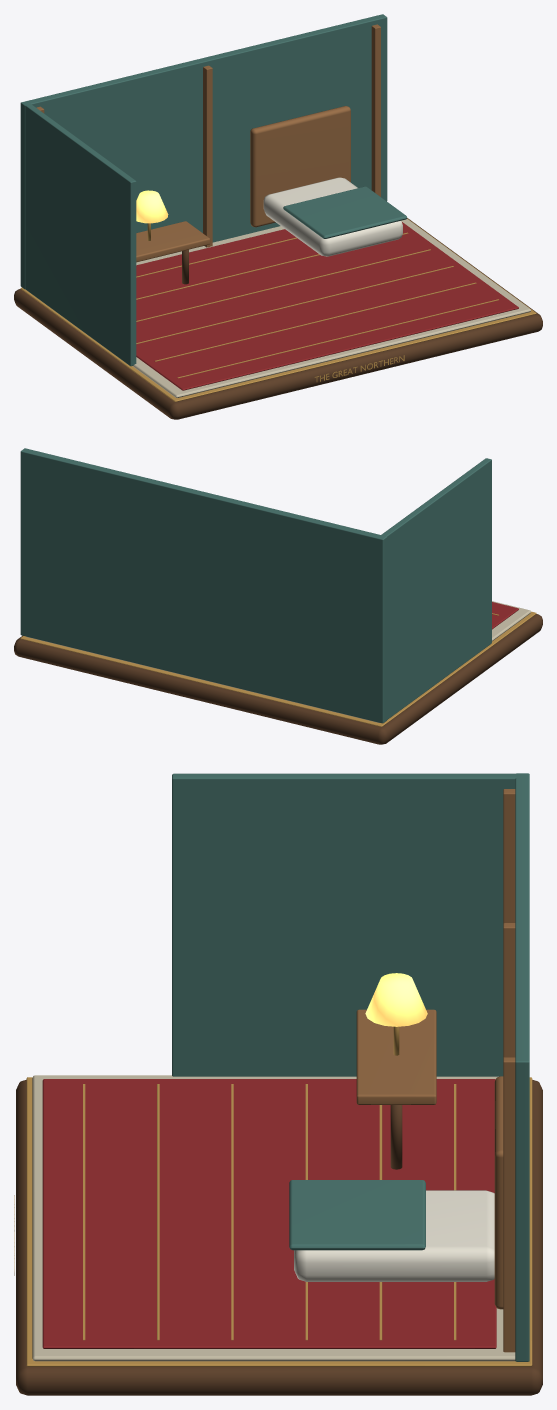
Rendered from hotel.glb.
3 renders of one model, top to bottom at view 1: azimuth 30°, elevation 25°; view 2: azimuth 150°, elevation 25°; view 3: azimuth 270°, elevation 25°, orthographic. The views are drawn at different scales.
Parts seen in each view (by area): view 1: Hotel carpet, Rear plaster wall.001, Cutaway side wall.001, Walnut display plinth.004, Bed headboard, Stage floor.004, Bed mattress, Blanket, Inset brass rim.004, Writing desk, Oak wall post.004, Oak wall post.005 (+5 smaller); view 2: Rear plaster wall.001, Cutaway side wall.001, Walnut display plinth.004, Inset brass rim.004, Stage floor.004, Hotel carpet; view 3: Hotel carpet, Cutaway side wall.001, Walnut display plinth.004, Stage floor.004, Bed mattress, Blanket, Rear plaster wall.001, Writing desk, Inset brass rim.004, Oak wall post.005, Lamp shade, Bed headboard (+6 smaller).
Boxes of the visible parts, x1=… form: Hotel carpet: x1=136, y1=222, x2=518, y2=390; Rear plaster wall.001: x1=20, y1=14, x2=387, y2=289; Cutaway side wall.001: x1=25, y1=103, x2=136, y2=366; Walnut display plinth.004: x1=14, y1=218, x2=542, y2=419; Bed headboard: x1=250, y1=106, x2=350, y2=227; Stage floor.004: x1=133, y1=219, x2=531, y2=397; Bed mattress: x1=263, y1=177, x2=402, y2=256; Blanket: x1=283, y1=186, x2=407, y2=238; Inset brass rim.004: x1=20, y1=218, x2=536, y2=401; Writing desk: x1=136, y1=221, x2=210, y2=262; Oak wall post.004: x1=203, y1=65, x2=212, y2=247; Oak wall post.005: x1=371, y1=24, x2=380, y2=196; Rear plaster wall.001: x1=20, y1=448, x2=387, y2=723; Cutaway side wall.001: x1=380, y1=458, x2=491, y2=719; Walnut display plinth.004: x1=14, y1=614, x2=542, y2=744; Inset brass rim.004: x1=20, y1=611, x2=536, y2=726; Stage floor.004: x1=26, y1=601, x2=530, y2=722; Hotel carpet: x1=492, y1=602, x2=518, y2=629; Hotel carpet: x1=42, y1=1079, x2=496, y2=1348; Cutaway side wall.001: x1=172, y1=773, x2=521, y2=1076; Walnut display plinth.004: x1=16, y1=1079, x2=542, y2=1395; Stage floor.004: x1=32, y1=1075, x2=515, y2=1361; Bed mattress: x1=294, y1=1190, x2=494, y2=1281; Blanket: x1=289, y1=1180, x2=425, y2=1250; Rear plaster wall.001: x1=515, y1=773, x2=529, y2=1361; Writing desk: x1=356, y1=1009, x2=436, y2=1104; Inset brass rim.004: x1=26, y1=1077, x2=532, y2=1366; Oak wall post.005: x1=503, y1=1057, x2=515, y2=1352; Lamp shade: x1=365, y1=973, x2=427, y2=1026; Bed headboard: x1=494, y1=1076, x2=503, y2=1309.
Bounding box in the file's own units: 7.2 × 3.78 × 5.42.
